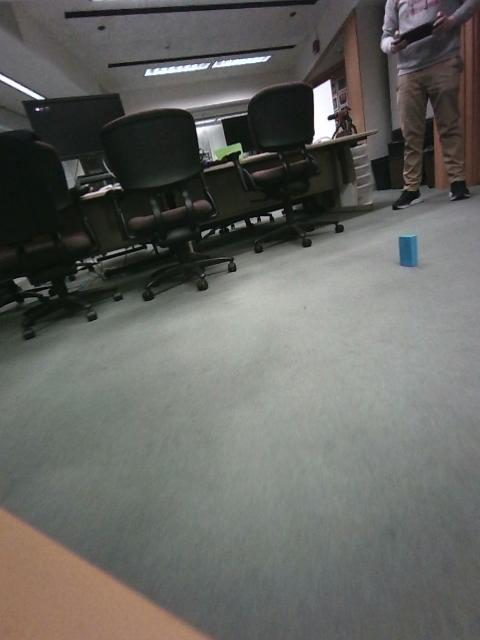block: (186, 324, 232, 388)
